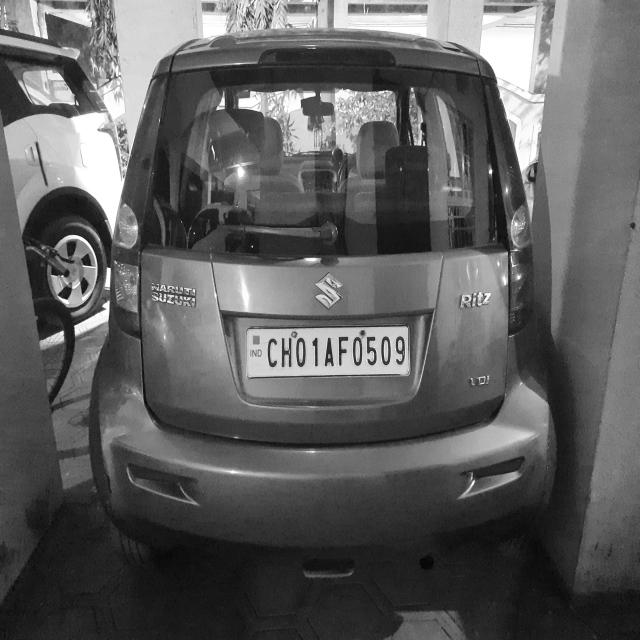car: (89, 17, 562, 576)
license-plate: (250, 328, 411, 378)
